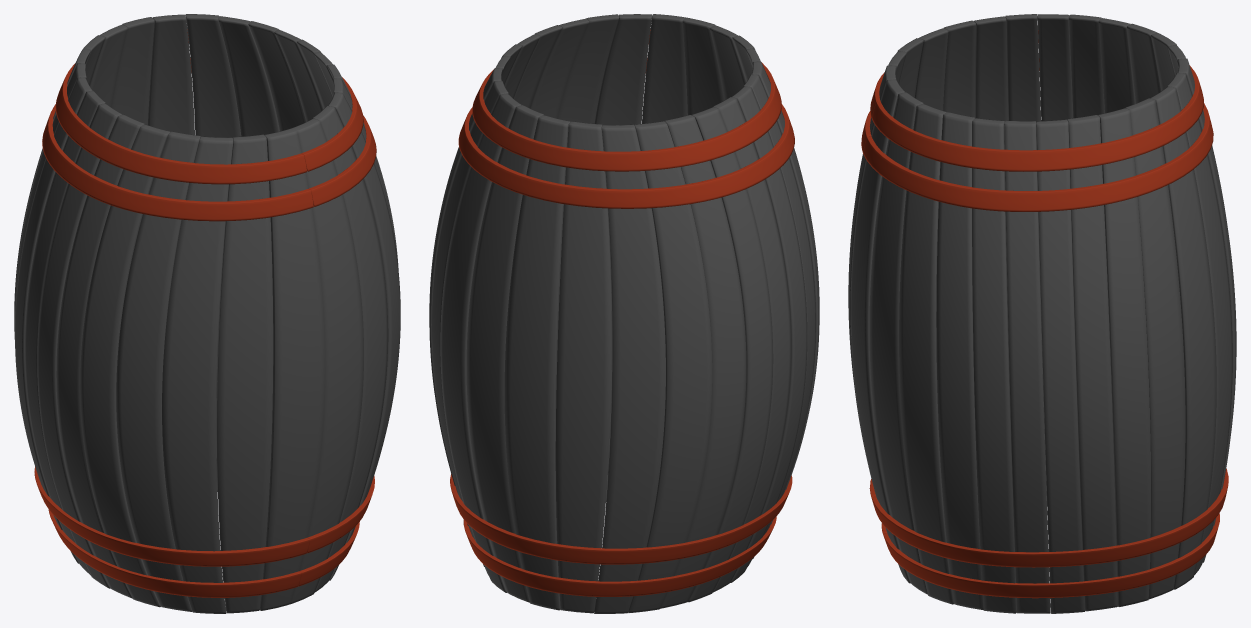
Rendered from barrel.FBX.
3 renders of one model, left to right at view 1: azimuth 30°, elevation 25°; view 2: azimuth 150°, elevation 25°; view 3: azimuth 270°, elevation 25°, orthographic. The views are drawn at different scales.
Parts seen in each view (by area): view 1: Box029; view 2: Box029; view 3: Box029.
Part boxes in pixels (x1,y1,x2,y2): Box029: (14,14,400,613); Box029: (429,14,819,613); Box029: (848,14,1236,613).
Bounding box in the file's own units: 50.38 × 69.23 × 48.97.
